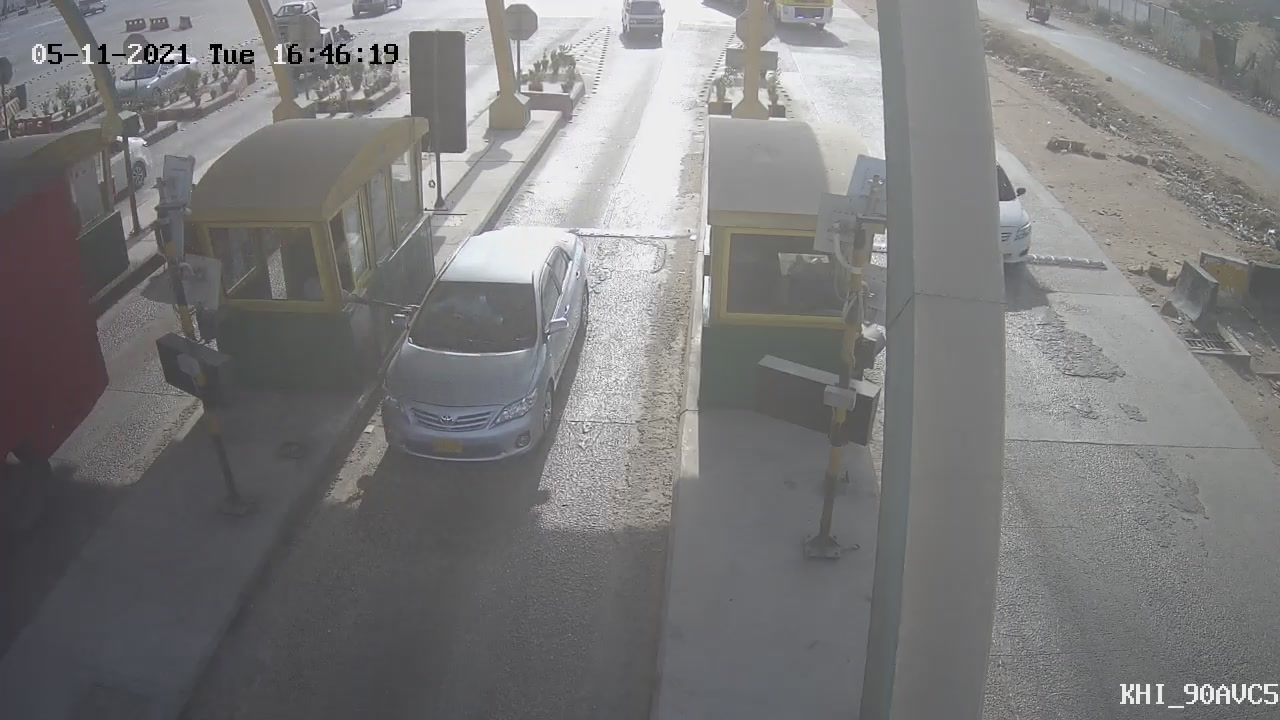F1: (350, 208, 612, 483)
